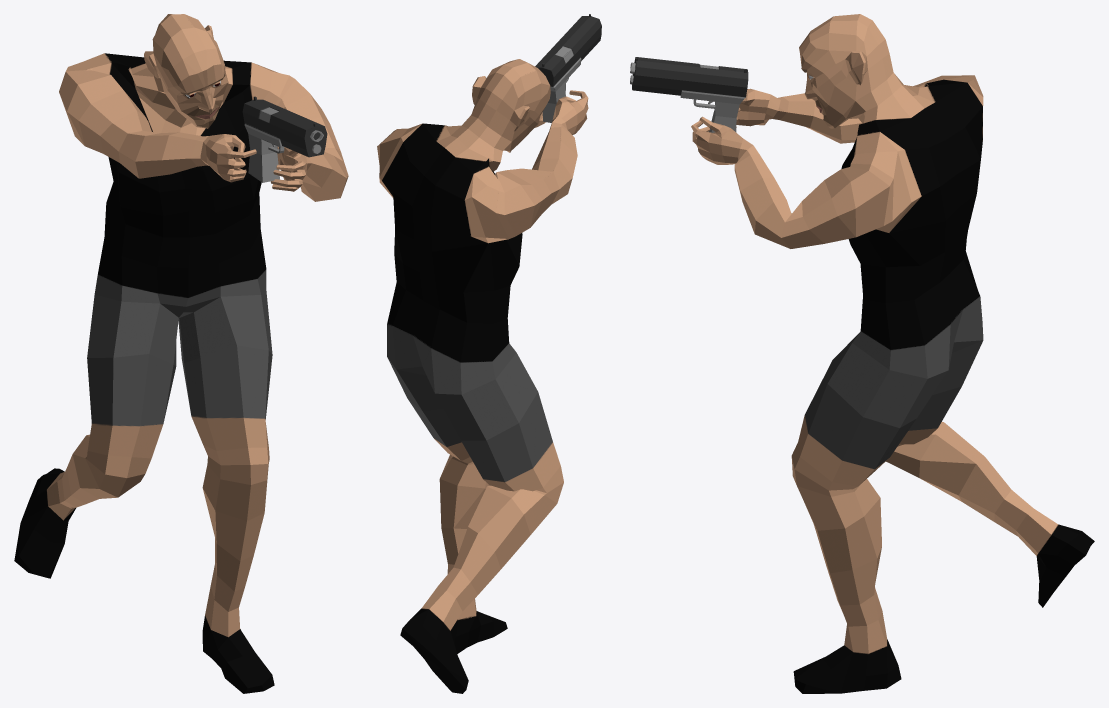
Rendered from PlayerWalk(9).obj.
The picture shows the model from 3 angles, left to right: view 1: azimuth 30°, elevation 25°; view 2: azimuth 150°, elevation 25°; view 3: azimuth 270°, elevation 25°; orthographic projection. The views are drawn at different scales.
Visible parts, largest first — view 1: Plane002, Box003; view 2: Plane002, Box003; view 3: Plane002, Box003.
Boxes of the visible parts, box(x1,y1,x2,y2) form: Plane002: box(14, 14, 348, 693); Box003: box(242, 96, 327, 182); Plane002: box(377, 59, 588, 693); Box003: box(535, 14, 601, 122); Plane002: box(691, 14, 1094, 693); Box003: box(630, 57, 748, 132).
Size of the model in its own units: 570 by 1708 by 1115.
